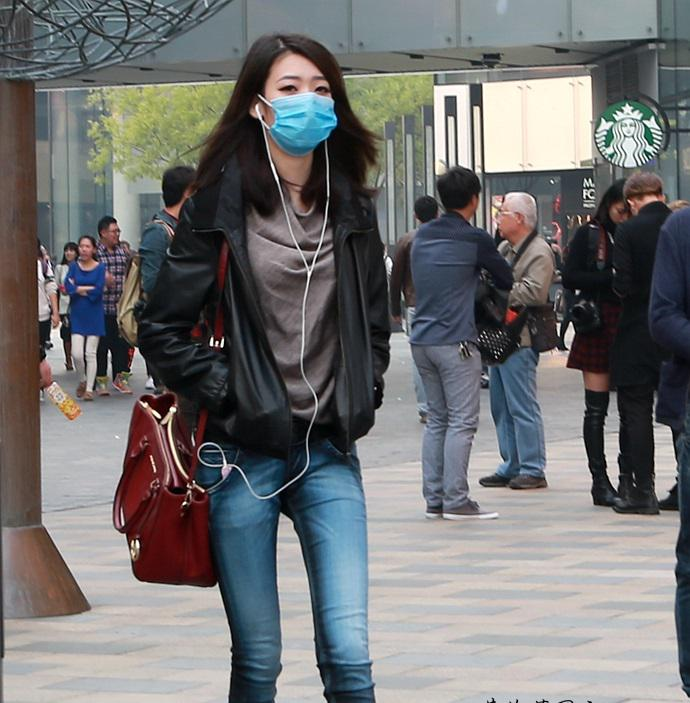NONE: (498, 206, 527, 240), (103, 223, 122, 246), (80, 243, 94, 261)
OK: (265, 70, 342, 147)
